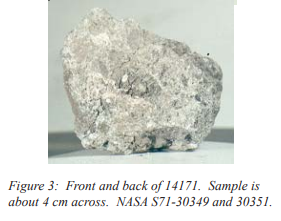Breccia: (54, 3, 219, 148)
